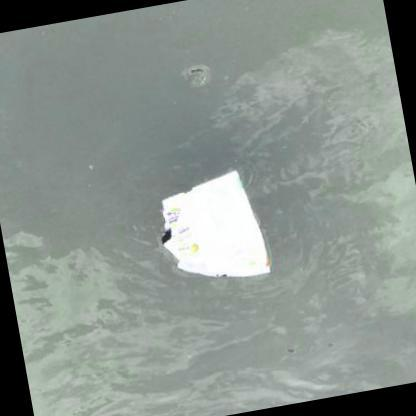Trash: (158, 168, 271, 280)
